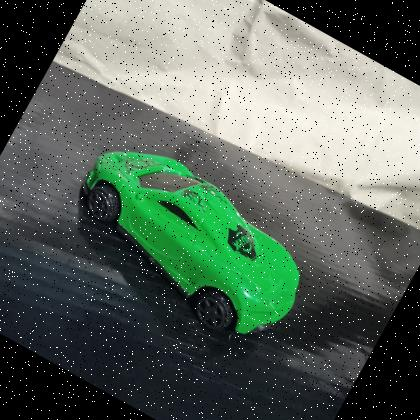Car: (81, 152, 299, 337)
